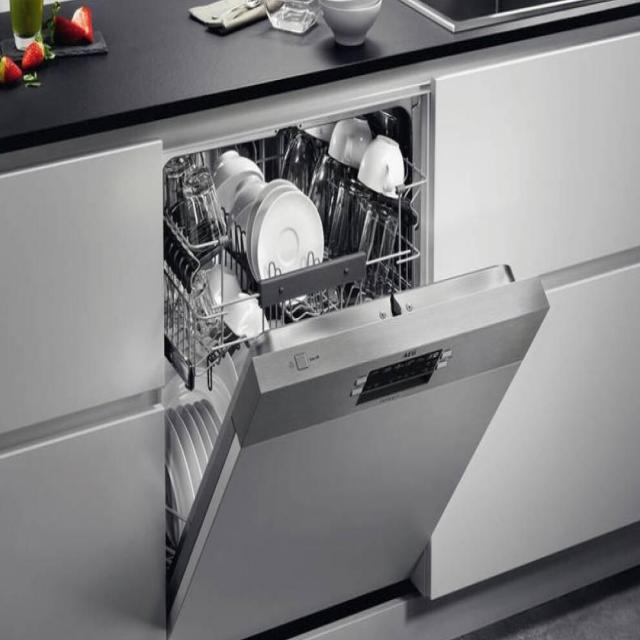dishwasher: (149, 71, 556, 640)
